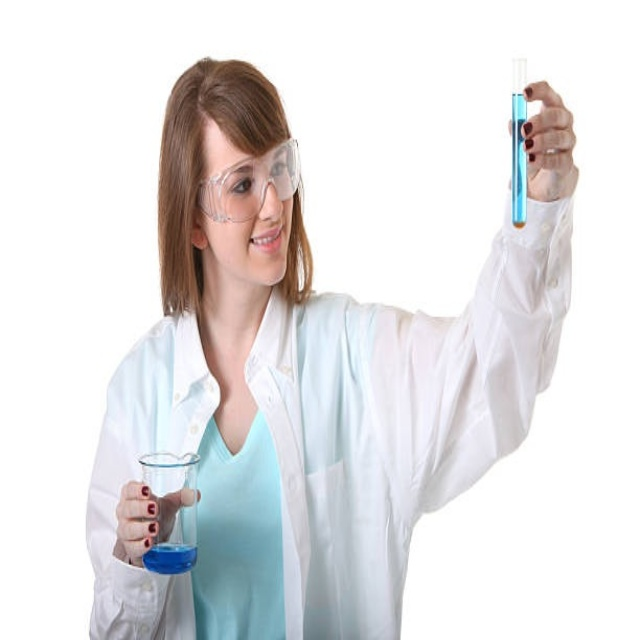Gafas: (197, 138, 302, 222)
Sin_guantes: (510, 79, 578, 204), (114, 479, 196, 564)
Sin_mascara: (247, 223, 288, 279)
